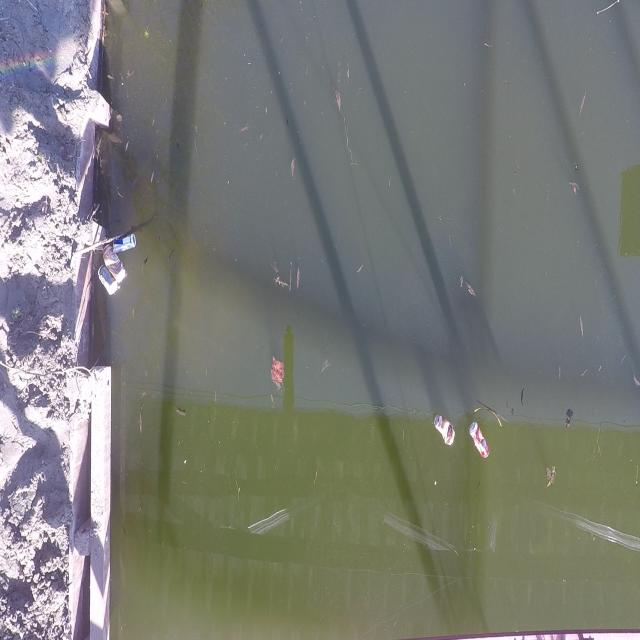Non plastique: (98, 239, 136, 299), (95, 259, 123, 304), (432, 412, 460, 453), (469, 420, 494, 462), (114, 229, 140, 254)
